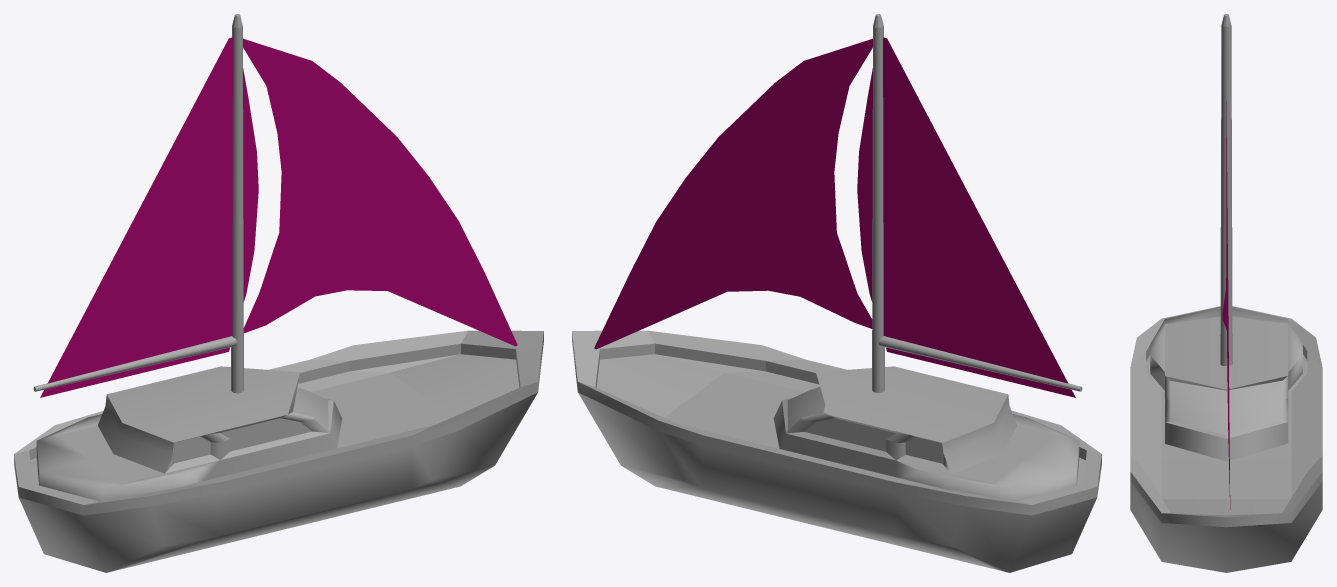
Rendered from Sail Boat.fbx.
The picture shows the model from 3 angles, left to right: view 1: azimuth 30°, elevation 25°; view 2: azimuth 150°, elevation 25°; view 3: azimuth 270°, elevation 25°; orthographic projection. The views are drawn at different scales.
Parts seen in each view (by area): view 1: pCube42, pPlane2, pPlane1, pCylinder3, pCylinder4; view 2: pCube42, pPlane2, pPlane1, pCylinder3, pCylinder4; view 3: pCube42, pCylinder3, pPlane2.
Part boxes in pixels (x1,y1,x2,y2): pCube42: (14,330,543,572); pPlane2: (243,38,517,346); pPlane1: (40,37,258,397); pCylinder3: (231,14,243,393); pCylinder4: (33,336,237,391); pCube42: (572,330,1101,572); pPlane2: (594,38,872,349); pPlane1: (857,37,1075,397); pCylinder3: (872,14,884,392); pCylinder4: (878,336,1082,391); pCube42: (1130,306,1322,572); pCylinder3: (1220,14,1232,365); pPlane2: (1222,101,1230,509).
Bounding box in the file's own units: 17.19 × 15.38 × 5.86.
